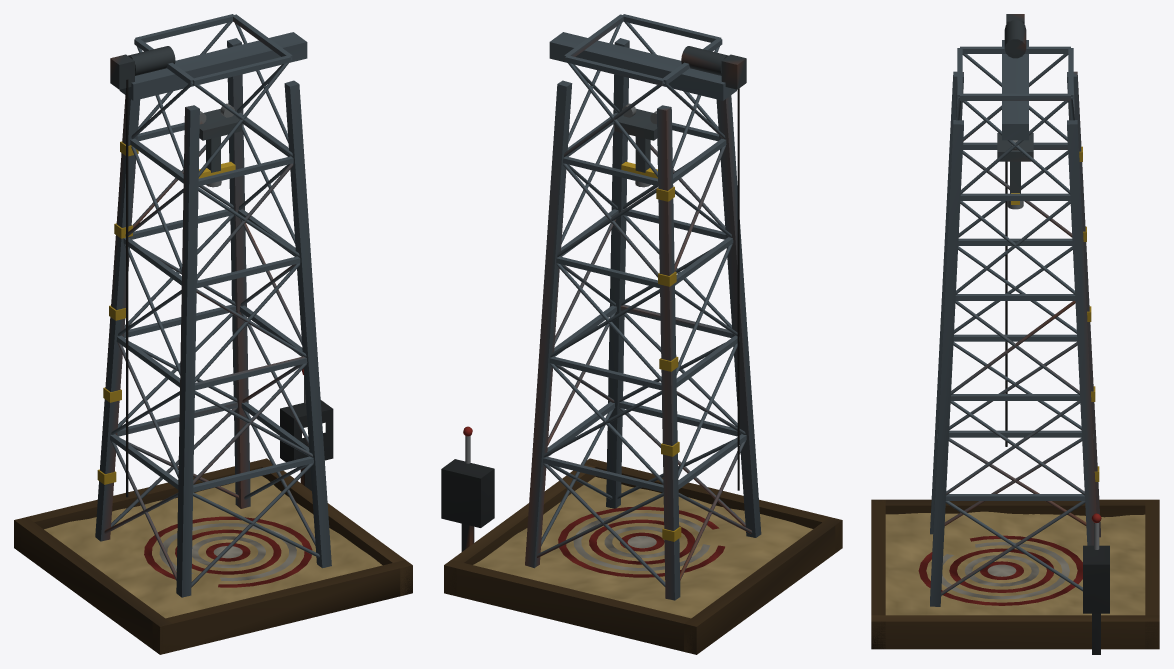
The model's file is drop-tower.glb.
3 renders of one model, left to right at view 1: azimuth 30°, elevation 25°; view 2: azimuth 150°, elevation 25°; view 3: azimuth 270°, elevation 25°, orthographic.
Parts seen in each view (by area): view 1: tower, carriage; view 2: tower, carriage; view 3: tower, carriage.
Boxes of the visible parts, bbox=[...] form: tower: bbox=[14, 14, 412, 654]; carriage: bbox=[198, 103, 242, 187]; tower: bbox=[441, 14, 842, 654]; carriage: bbox=[614, 103, 657, 187]; tower: bbox=[871, 14, 1159, 654]; carriage: bbox=[997, 133, 1033, 209].
Size of the model in its own units: 3.55 by 6.47 by 3.2.
